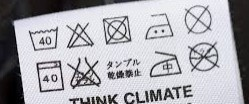ER_iron_medium_temp: (143, 12, 176, 41)
ER_no_bleach: (65, 21, 95, 49)
ER_no_dry_clean: (183, 2, 215, 35)
ER_no_tumble_dry: (101, 14, 134, 47)
ER_wash_40: (28, 25, 62, 52)
